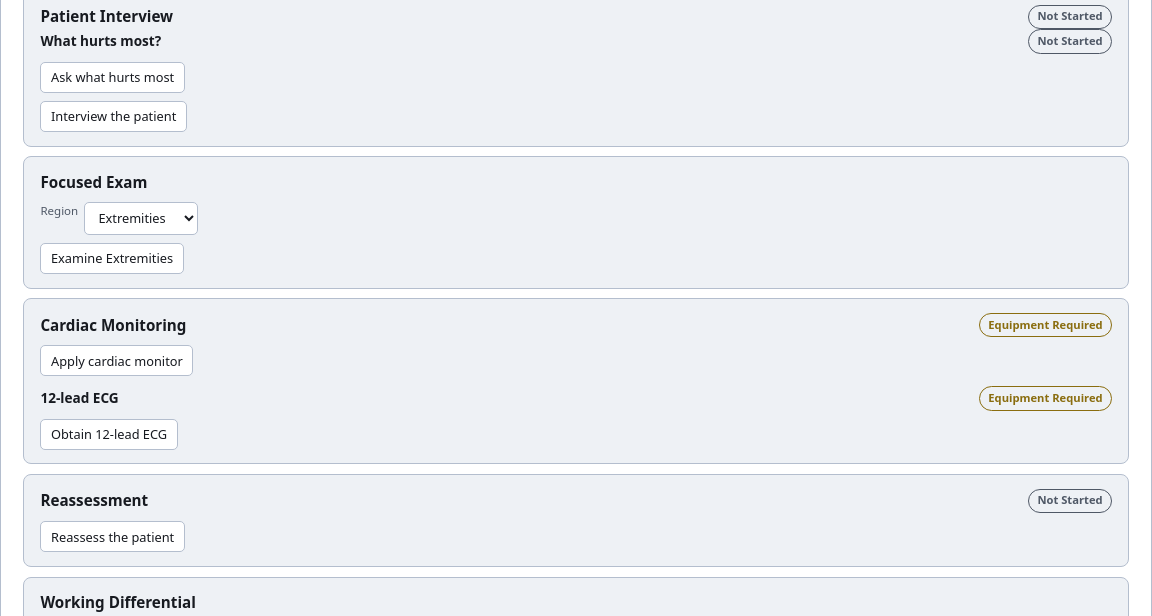
ClinicalPanel — equipment gating (§19) › cannot apply the monitor while it is on Medic 3, and says so
The width and height of the screenshot is (1152, 616).
(page scrolled)
Click the button "Apply cardiac monitor" at (117, 361), box [40,345,193,376]
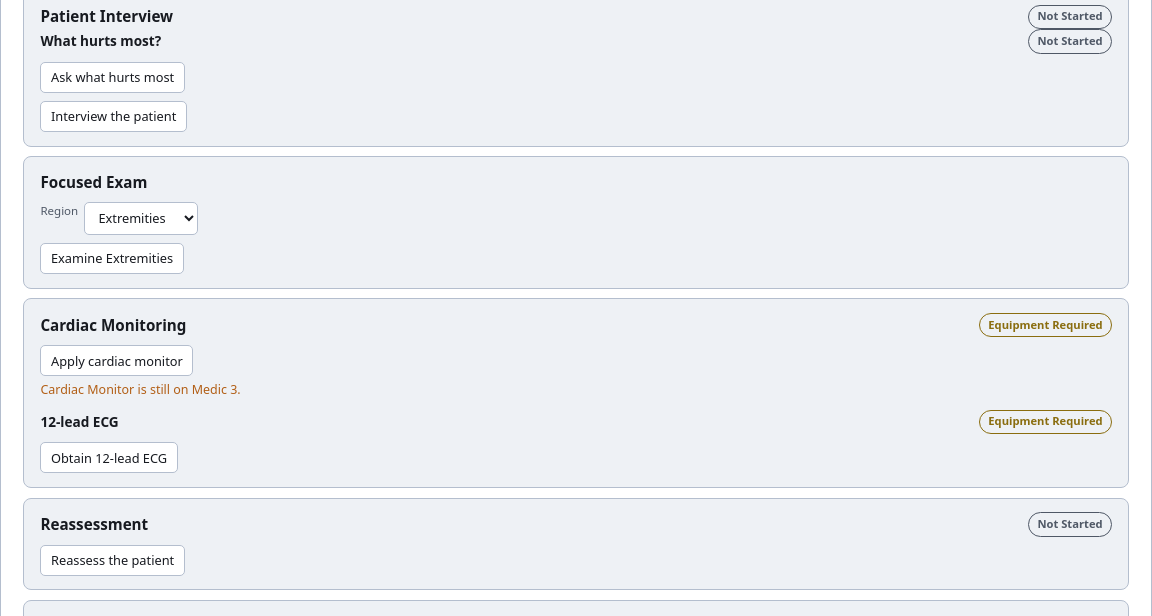
Now the text "Cardiac Monitor is still on Medic 3." is shown, box [40,381,241,398]
